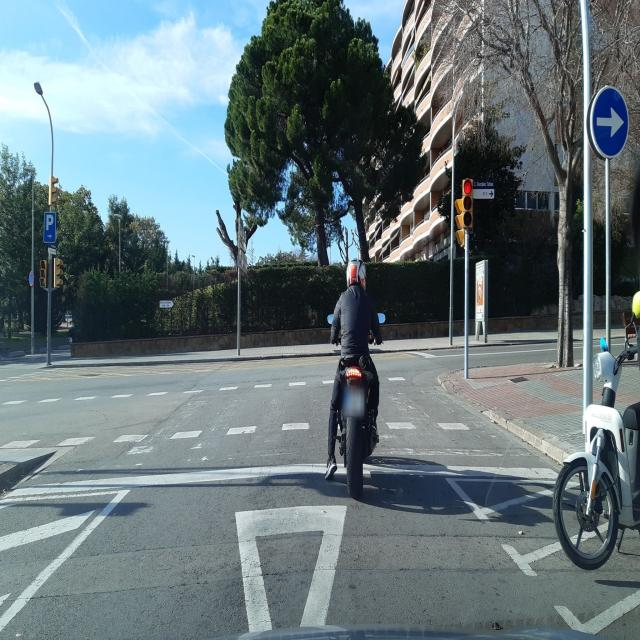bike: (552, 344, 640, 570), (324, 326, 383, 499), (325, 328, 383, 500)
car: (56, 314, 74, 334)
